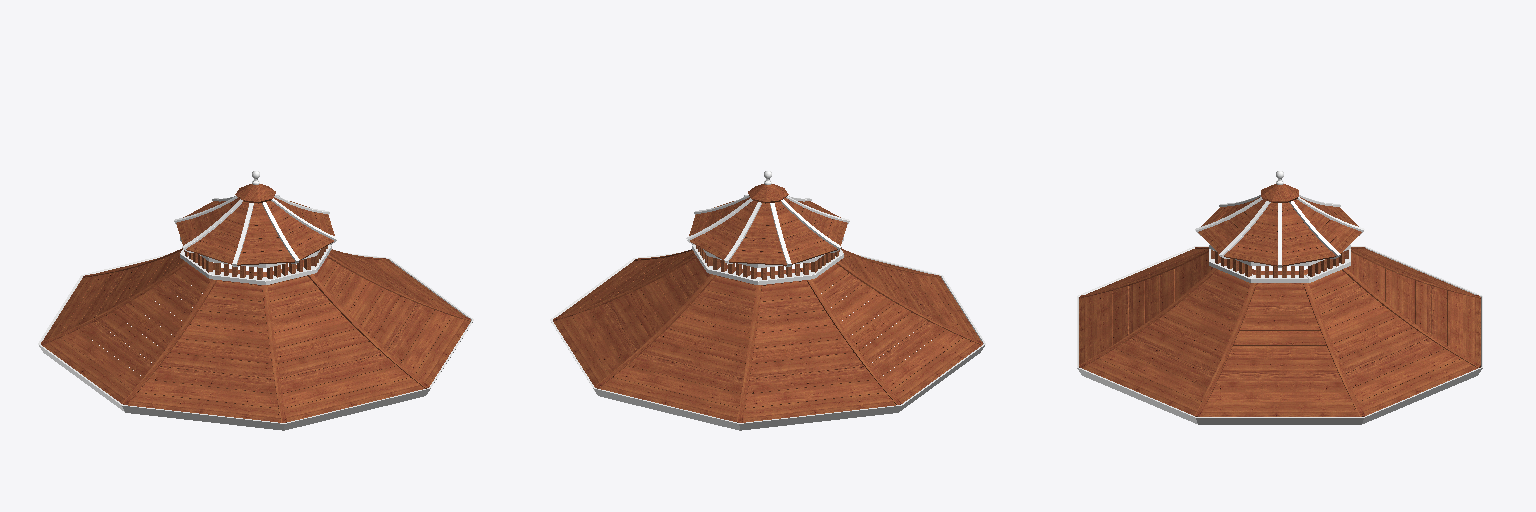
The picture shows the model from 3 angles: view 1: azimuth 30°, elevation 25°; view 2: azimuth 150°, elevation 25°; view 3: azimuth 270°, elevation 25°; orthographic projection.
Parts seen in each view (by area): view 1: roof_boards008, roof_boards001, roof_boards007, roof_boards002, roof_boards006, roof_boards003, cupola001, cupola008, cupola002, fascia008, fascia001, cupola007 (+6 smaller); view 2: roof_boards006, roof_boards005, roof_boards007, roof_boards004, roof_boards008, roof_boards003, cupola006, cupola007, cupola005, fascia006, fascia005, cupola008 (+6 smaller); view 3: roof_boards003, roof_boards002, roof_boards004, roof_boards005, roof_boards001, cupola003, cupola004, fascia003, cupola002, cupola005, rafter003, rafter002 (+7 smaller).
Part boxes in pixels (left/top/right/bottom): roof_boards008: left=128, top=269, right=280, bottom=422; roof_boards001: left=266, top=265, right=424, bottom=421; roof_boards007: left=42, top=263, right=214, bottom=403; roof_boards002: left=303, top=258, right=469, bottom=387; roof_boards006: left=42, top=251, right=183, bottom=341; roof_boards003: left=329, top=250, right=467, bottom=317; cupola001: left=237, top=203, right=294, bottom=265; cupola008: left=186, top=201, right=248, bottom=264; cupola002: left=266, top=201, right=333, bottom=259; fascia008: left=122, top=405, right=284, bottom=430; fascia001: left=284, top=388, right=430, bottom=430; cupola007: left=176, top=198, right=239, bottom=245; roof_boards006: left=743, top=269, right=895, bottom=422; roof_boards005: left=599, top=265, right=757, bottom=421; roof_boards007: left=809, top=263, right=981, bottom=403; roof_boards004: left=554, top=257, right=720, bottom=387; roof_boards008: left=840, top=251, right=981, bottom=341; roof_boards003: left=556, top=250, right=694, bottom=317; cupola006: left=729, top=203, right=786, bottom=265; cupola007: left=775, top=201, right=837, bottom=264; cupola005: left=690, top=201, right=757, bottom=259; fascia006: left=739, top=405, right=901, bottom=430; fascia005: left=593, top=388, right=739, bottom=430; cupola008: left=784, top=198, right=847, bottom=245; roof_boards003: left=1200, top=271, right=1359, bottom=416; roof_boards002: left=1082, top=269, right=1254, bottom=416; roof_boards004: left=1305, top=269, right=1477, bottom=416; roof_boards005: left=1347, top=252, right=1480, bottom=367; roof_boards001: left=1079, top=252, right=1212, bottom=367; cupola003: left=1224, top=202, right=1277, bottom=266; cupola004: left=1282, top=202, right=1335, bottom=266; fascia003: left=1196, top=417, right=1363, bottom=424; cupola002: left=1198, top=199, right=1266, bottom=253; cupola005: left=1293, top=199, right=1361, bottom=253; rafter003: left=1303, top=270, right=1364, bottom=416; rafter002: left=1195, top=270, right=1256, bottom=416.
Bounding box in the file's own units: 140 × 64.72 × 140.
Materials: 4 (2 with a texture image).